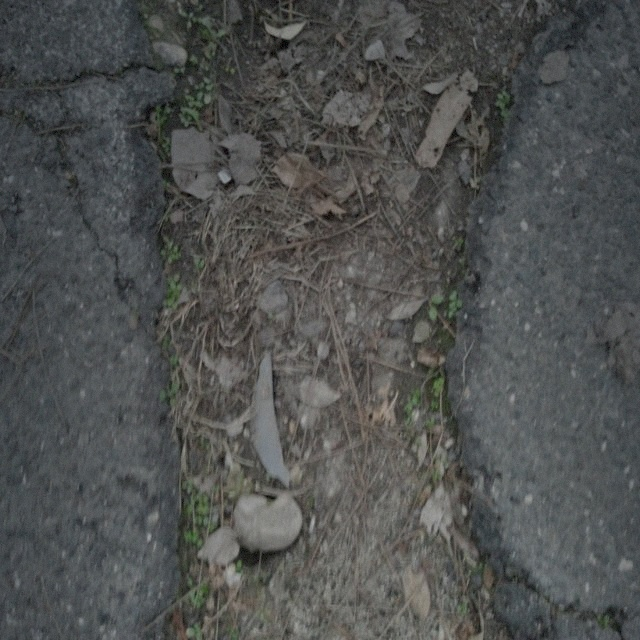pothole: (114, 11, 512, 614)
